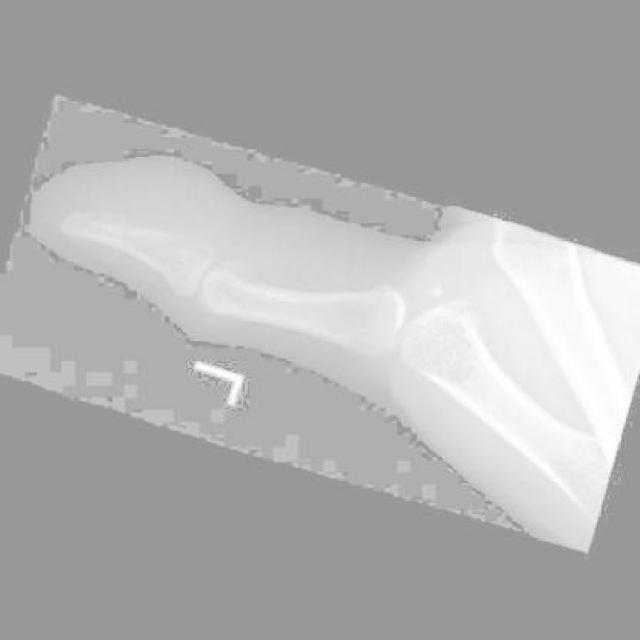Fracture: (82, 197, 141, 250)
